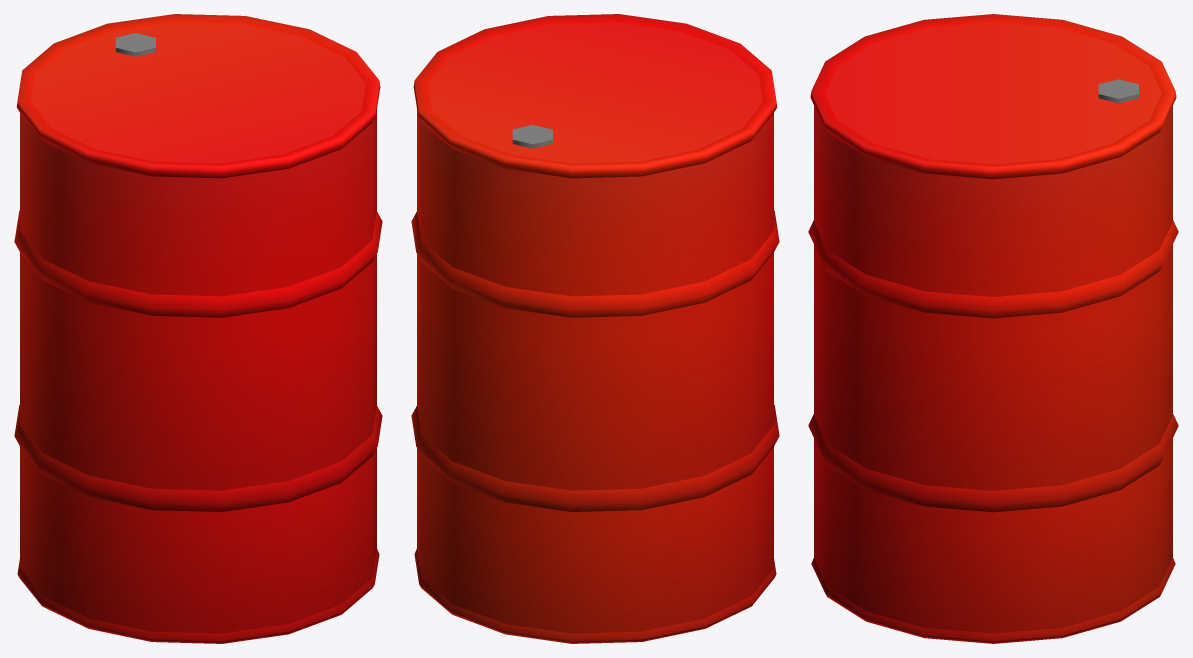
File: Barrel.fbx
3 views of the same model, side by side, from view 1: azimuth 30°, elevation 25°; view 2: azimuth 150°, elevation 25°; view 3: azimuth 270°, elevation 25° (orthographic).
Parts seen in each view (by area): view 1: barrel; view 2: barrel; view 3: barrel.
Boxes of the visible parts, <box> form: barrel: <box>14,14,382,643</box>; barrel: <box>411,14,779,643</box>; barrel: <box>808,14,1178,643</box>.
Size of the model in its own units: 0.8314 by 1.19 by 0.8314.
